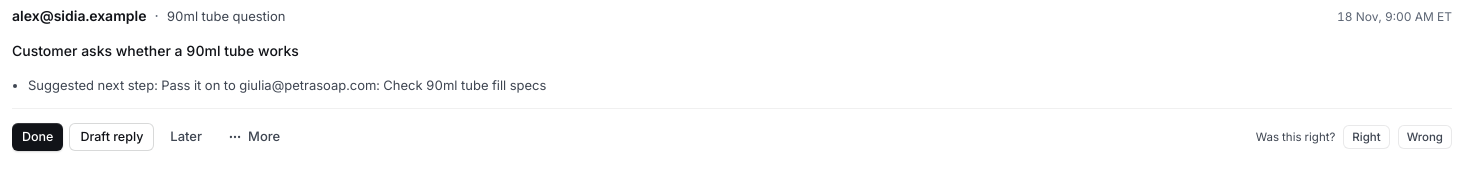
Test: a to-do item › offers Draft reply and shows planned facts on open mail/Teams conversation items
Expected: the list with test id "todo-facts" shows "Pass it on to giulia@petrasoap.com", 28,77 -> 546,93
What coordinates should you click on to do the following:
click the button "Draft reply"
I would click on:
 (112, 137)
Its box is 69,123 -> 154,151.
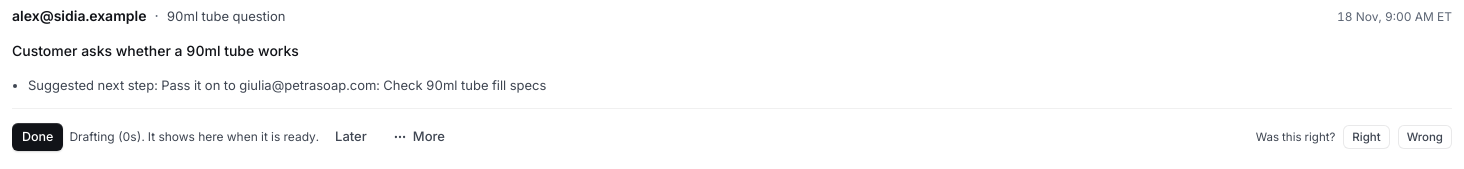
Now the message "Drafting (0s). It shows here when it is ready." is shown, box 69,125 -> 319,148
